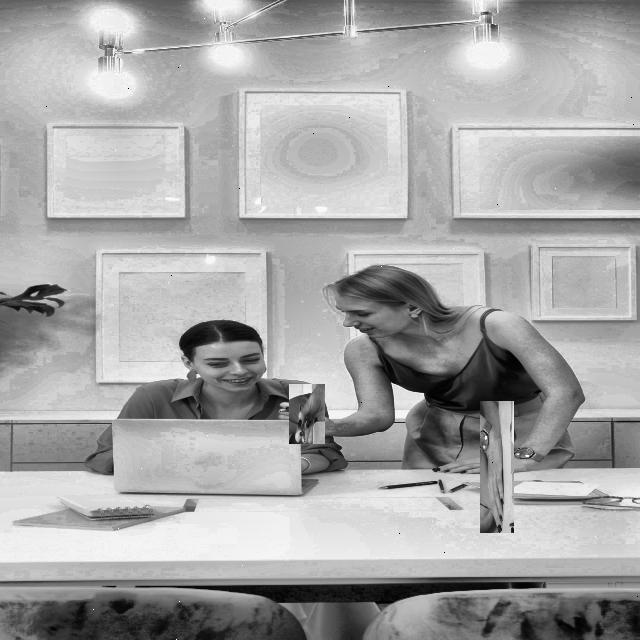not-gloved: (456, 426, 540, 508), (284, 390, 332, 438)
